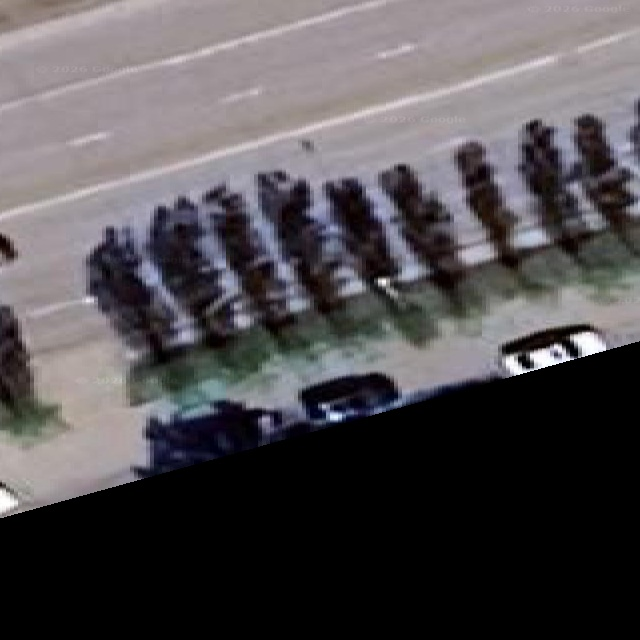car: (131, 399, 313, 477), (300, 372, 502, 432), (134, 400, 278, 475), (395, 372, 504, 435), (500, 324, 609, 375), (299, 372, 400, 424), (402, 375, 500, 404), (0, 482, 20, 515), (0, 232, 16, 263), (463, 416, 464, 420), (411, 428, 412, 431)
